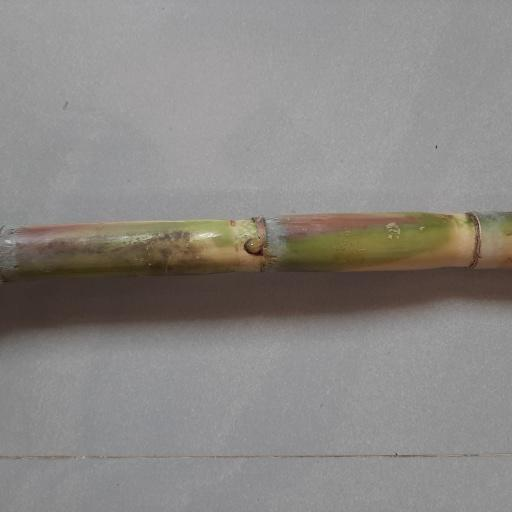Bud: (242, 236, 263, 257)
